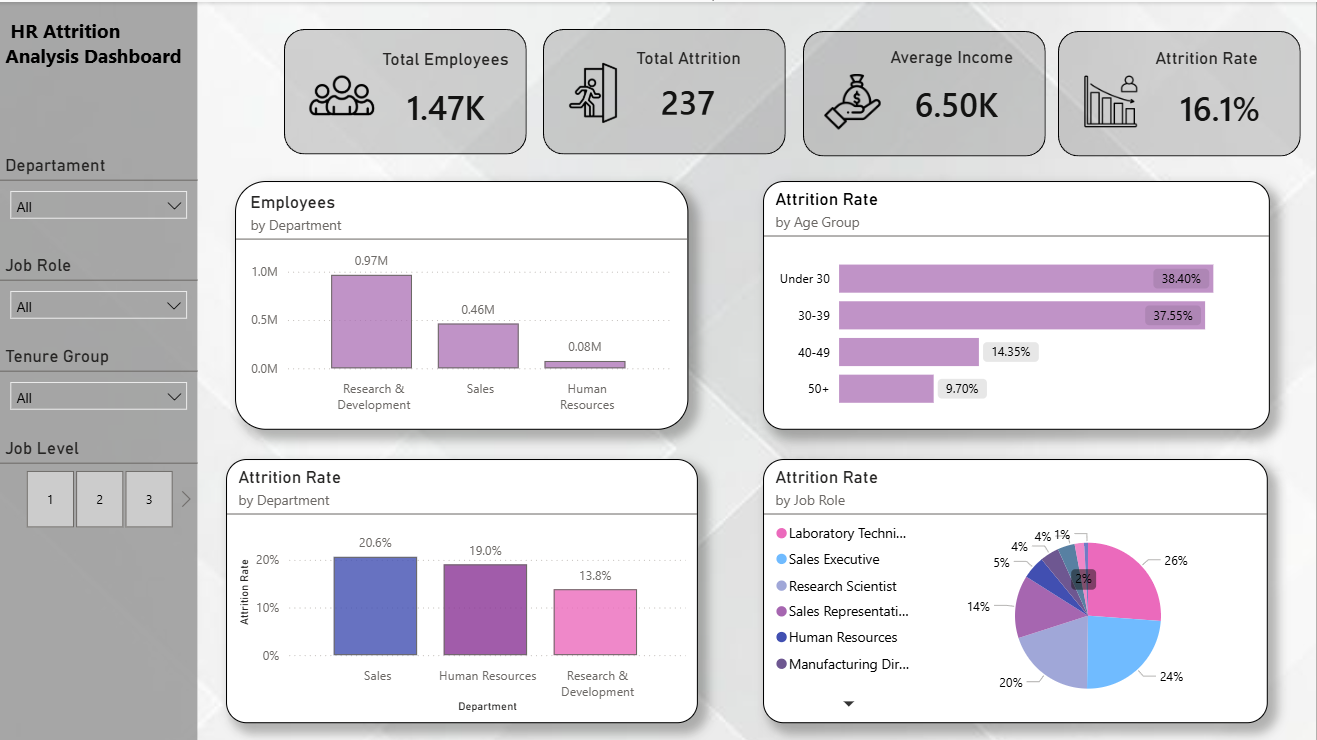

The dashboard page shown, as its layout file describes it:
{"tool":"powerbi","page":{"name":"KPI","canvas":[1280,720],"ordinal":0},"visuals":[{"type":"shape","box":[0,0,192.3,720.2],"z":0},{"type":"shape","box":[781.3,27.9,236.1,122],"z":1000},{"type":"shape","box":[275.9,26.5,236.1,122],"z":2000},{"type":"shape","box":[527.9,26.5,236.1,122],"z":3000},{"type":"shape","box":[1029.3,27.9,236.1,122],"z":4000},{"type":"clusteredBarChart","title":"Attrition Rate","fields":{"Category":["Employee.Age Group"],"Y":["Employee.Attrition Count"]},"box":[742.1,174.1,493.1,242.2],"z":8000},{"type":"cardVisual","title":"Total Employees","fields":{"Data":["Sum(WA_Fn-UseC_-HR-Employee-Attrition.EmployeeCount)"]},"box":[366.7,45.7,139.1,90.5],"z":9000},{"type":"cardVisual","title":"Total Attrition","fields":{"Data":["Employee.Attrition Count"]},"box":[613.7,44.7,141,82.7],"z":10000},{"type":"clusteredColumnChart","title":"Attrition Rate ","fields":{"Category":["Employee.Department"],"Y":["Employee.Attrition Rate"]},"box":[219.8,444.5,459.1,256.8],"z":11000},{"type":"cardVisual","title":"Average Income","fields":{"Data":["Avg(WA_Fn-UseC_-HR-Employee-Attrition.MonthlyIncome)"]},"box":[860.8,43.8,168.3,88.5],"z":12000},{"type":"cardVisual","title":"Attrition Rate","fields":{"Data":["Employee.Attrition Rate"]},"box":[1118.5,44.7,145.9,93.4],"z":13000},{"type":"pieChart","title":"Attrition Rate ","fields":{"Category":["Employee.JobRole"],"Y":["Employee.Attrition Count"]},"box":[742.1,444.5,491.2,256.8],"z":14000},{"type":"image","box":[285,58.4,95.3,65.2],"z":15000},{"type":"image","box":[539.8,56.4,73.9,64.2],"z":16000},{"type":"image","box":[797.6,70,63.2,54.5],"z":17000},{"type":"image","box":[1054.3,64.2,51.6,65.2],"z":18000},{"type":"slicer","title":"Departament","fields":{"Values":["Employee.Department"]},"box":[0,148.6,192.3,111.4],"z":19000},{"type":"slicer","title":"Job Role","fields":{"Values":["Employee.JobRole"]},"box":[0,245.8,191.9,67.9],"z":20000},{"type":"slicer","title":"Job Level","fields":{"Values":["Employee.JobLevel"]},"box":[0,424.5,192.3,92.8],"z":21000},{"type":"textbox","box":[0,9.3,192.3,87.5],"z":22000},{"type":"slicer","title":"Tenure Group","fields":{"Values":["Employee.Tenure Group"]},"box":[0,334.3,192.3,71.6],"z":23000},{"type":"clusteredColumnChart","title":"Employees","fields":{"Category":["Employee.Department"],"Y":["Sum(Employee.EmployeeNumber)"]},"box":[228.6,174.1,440.6,242.2],"z":23001}]}

Visuals, with their boxes in screenshot pixels (x1, y1, x2, y2), scaled from the page's 1280x720 canvas onto the 1317x740 screenshot:
shape: x1=0, y1=0, x2=198, y2=739
shape: x1=804, y1=29, x2=1047, y2=154
shape: x1=284, y1=27, x2=527, y2=153
shape: x1=543, y1=27, x2=786, y2=153
shape: x1=1059, y1=29, x2=1302, y2=154
"Attrition Rate" clusteredBarChart: x1=764, y1=179, x2=1271, y2=428
"Total Employees" cardVisual: x1=377, y1=47, x2=520, y2=140
"Total Attrition" cardVisual: x1=631, y1=46, x2=777, y2=131
"Attrition Rate " clusteredColumnChart: x1=226, y1=457, x2=699, y2=721
"Average Income" cardVisual: x1=886, y1=45, x2=1059, y2=136
"Attrition Rate" cardVisual: x1=1151, y1=46, x2=1301, y2=142
"Attrition Rate " pieChart: x1=764, y1=457, x2=1269, y2=721
image: x1=293, y1=60, x2=391, y2=127
image: x1=555, y1=58, x2=631, y2=124
image: x1=821, y1=72, x2=886, y2=128
image: x1=1085, y1=66, x2=1138, y2=133
"Departament" slicer: x1=0, y1=153, x2=198, y2=267
"Job Role" slicer: x1=0, y1=253, x2=197, y2=322
"Job Level" slicer: x1=0, y1=436, x2=198, y2=532
textbox: x1=0, y1=10, x2=198, y2=99
"Tenure Group" slicer: x1=0, y1=344, x2=198, y2=417
"Employees" clusteredColumnChart: x1=235, y1=179, x2=689, y2=428
